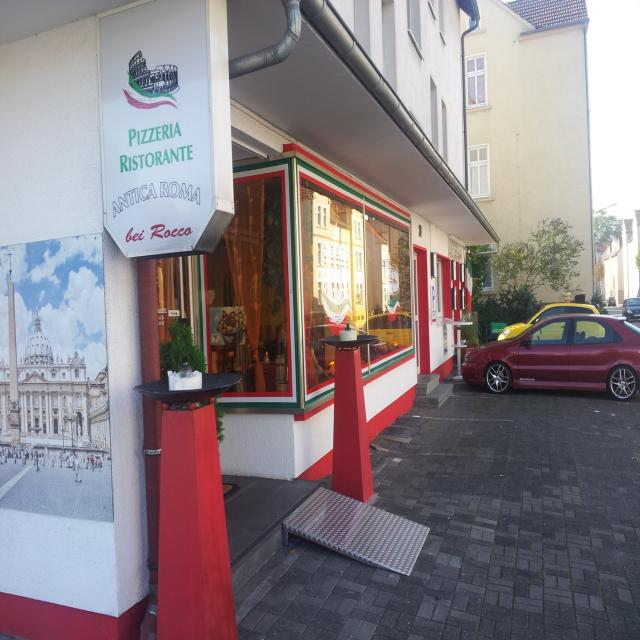CLIMB: (280, 482, 430, 578)
